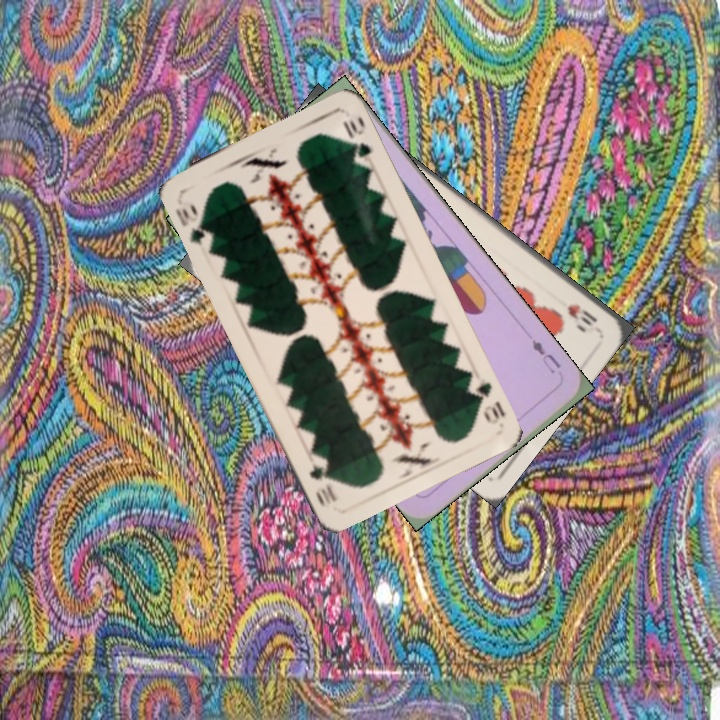EU: (527, 336, 564, 377)
G10: (464, 376, 508, 427), (172, 200, 216, 249)
H10: (563, 299, 600, 329)
